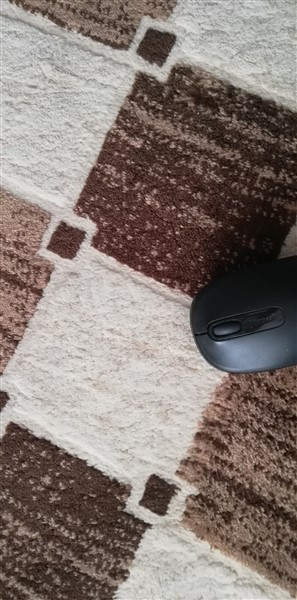mouse: (184, 251, 297, 376)
